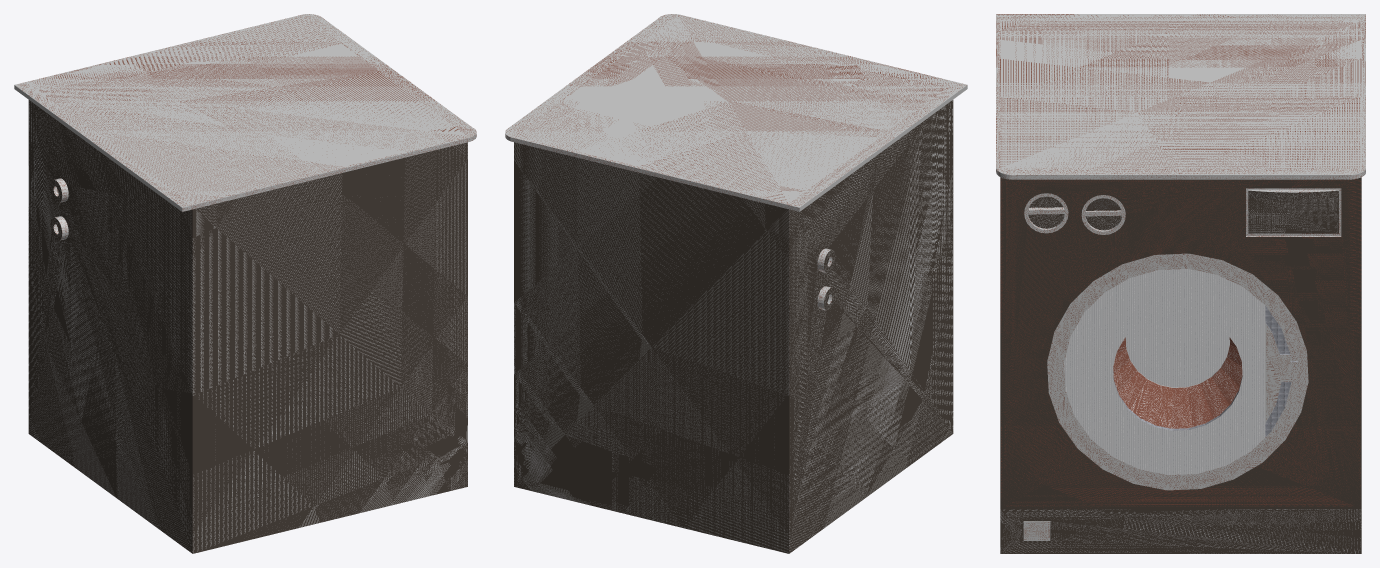
3 views of the same model, side by side, from view 1: azimuth 30°, elevation 25°; view 2: azimuth 150°, elevation 25°; view 3: azimuth 270°, elevation 25° (orthographic). The views are drawn at different scales.
Parts seen in each view (by area): view 1: mesh1_mesh1-geometry; view 2: mesh1_mesh1-geometry; view 3: mesh1_mesh1-geometry.
Part boxes in pixels (x1=…): mesh1_mesh1-geometry: x1=14, y1=14, x2=476, y2=553; mesh1_mesh1-geometry: x1=505, y1=14, x2=967, y2=553; mesh1_mesh1-geometry: x1=996, y1=14, x2=1365, y2=553.
Bounding box in the file's own units: 0.5605 × 0.6251 × 0.5432.
